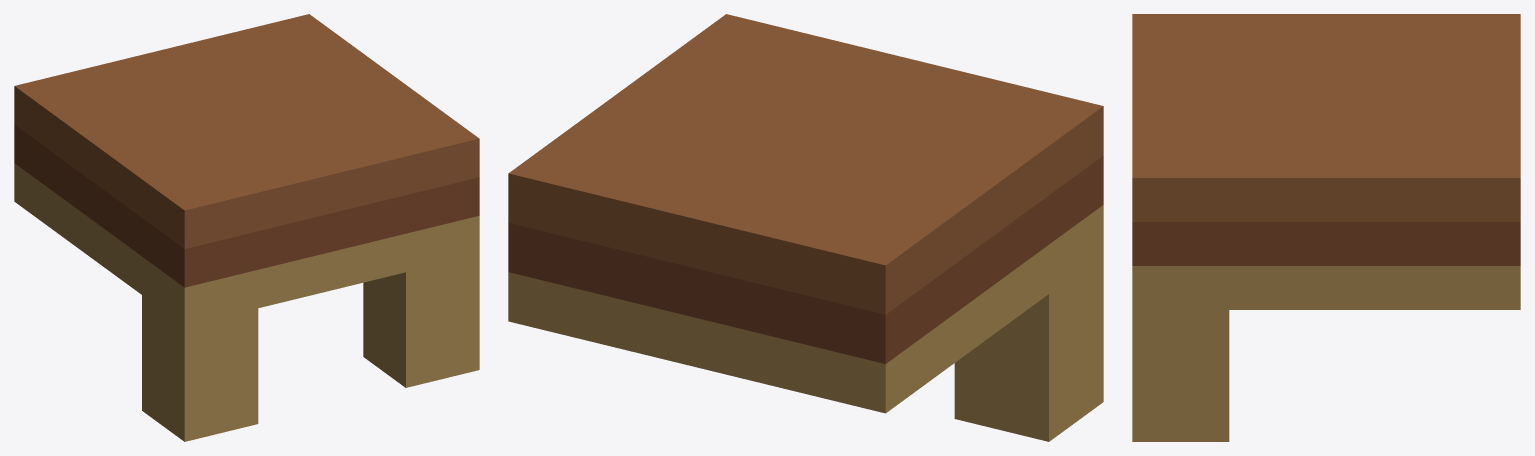
The model's file is Brown Bed.glb.
3 renders of one model, left to right at view 1: azimuth 30°, elevation 25°; view 2: azimuth 150°, elevation 25°; view 3: azimuth 270°, elevation 25°, orthographic. The views are drawn at different scales.
Parts seen in each view (by area): view 1: Untitled; view 2: Untitled; view 3: Untitled.
Part boxes in pixels (<box>): Untitled: <box>14,14,479,441</box>; Untitled: <box>508,14,1103,441</box>; Untitled: <box>1132,14,1520,441</box>.
Size of the model in its own units: 1.6 by 1.2 by 1.6.
1 material, 1 textured.
